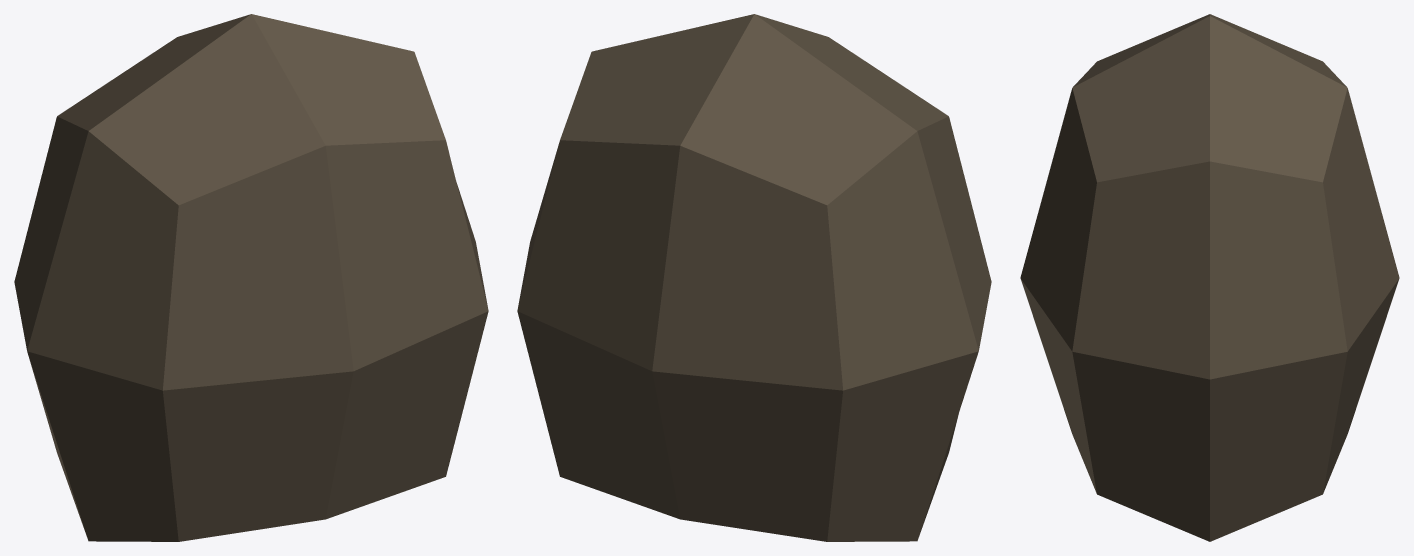
Rendered from cueva_roca_v2.fbx.
The picture shows the model from 3 angles, left to right: view 1: azimuth 30°, elevation 25°; view 2: azimuth 150°, elevation 25°; view 3: azimuth 270°, elevation 25°; orthographic projection. The views are drawn at different scales.
Visible parts, largest first — view 1: Cube; view 2: Cube; view 3: Cube.
Boxes of the visible parts, x1=… form: Cube: x1=14, y1=14, x2=488, y2=541; Cube: x1=517, y1=14, x2=991, y2=541; Cube: x1=1020, y1=14, x2=1399, y2=541.
Bounding box in the file's own units: 851 × 913 × 672.
